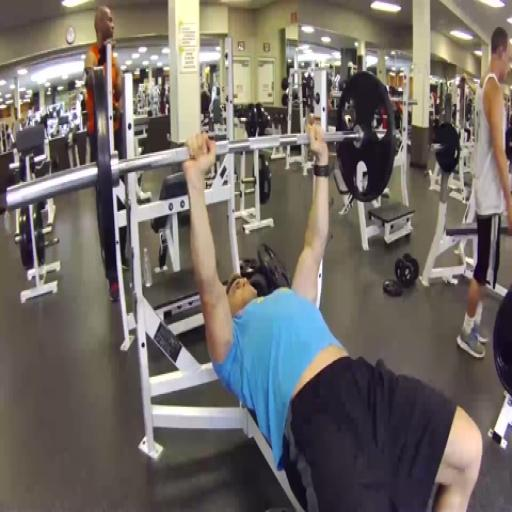exercise: (180, 112, 486, 510), (453, 24, 511, 363)
